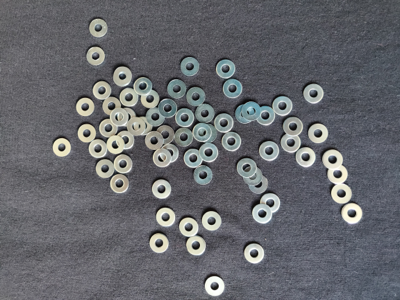circle: (302, 82, 326, 104), (341, 202, 363, 225), (204, 276, 226, 298), (88, 18, 111, 39), (271, 95, 294, 116), (255, 105, 277, 126), (185, 236, 207, 257), (201, 209, 222, 231), (243, 244, 265, 265), (330, 184, 352, 205), (85, 46, 108, 66), (154, 208, 177, 228), (112, 66, 133, 87), (167, 79, 188, 100), (186, 86, 207, 107), (195, 103, 216, 124), (308, 123, 329, 144), (281, 133, 302, 154), (323, 150, 344, 171), (328, 164, 349, 185), (184, 148, 204, 170), (296, 147, 318, 167), (251, 205, 273, 225), (192, 166, 214, 186), (141, 88, 161, 109), (181, 56, 201, 77), (175, 108, 196, 128), (174, 127, 194, 148), (216, 59, 237, 79), (223, 78, 244, 98), (222, 132, 243, 152), (259, 141, 280, 161), (237, 158, 258, 178), (260, 194, 281, 214), (151, 180, 172, 200), (179, 217, 199, 238), (75, 97, 95, 117), (120, 88, 140, 108), (160, 143, 180, 163), (199, 143, 219, 163), (249, 175, 269, 195), (149, 234, 169, 254), (283, 117, 304, 136), (93, 81, 113, 100), (135, 76, 155, 95), (110, 108, 130, 127), (127, 117, 146, 137), (77, 124, 97, 143), (115, 131, 135, 150), (113, 156, 133, 175), (96, 160, 116, 179), (110, 175, 130, 194), (145, 132, 164, 152), (156, 125, 175, 145), (153, 149, 173, 168), (199, 124, 218, 144), (215, 113, 234, 133), (235, 104, 254, 124), (244, 167, 264, 186), (113, 66, 131, 87), (119, 107, 137, 128), (159, 99, 178, 118), (134, 117, 153, 136), (52, 138, 71, 157), (242, 102, 261, 121), (103, 96, 121, 116), (146, 107, 166, 125), (89, 140, 108, 158), (106, 136, 125, 154), (100, 120, 118, 138), (194, 123, 212, 141)
